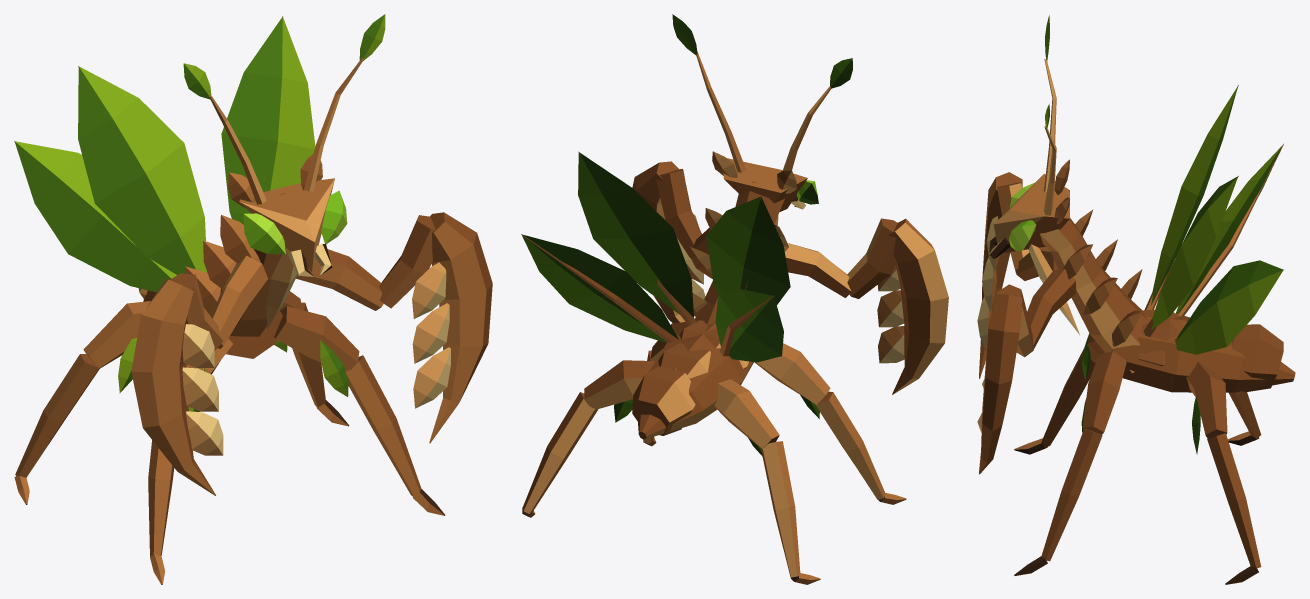
File: mantis-study-v2.glb
3 renders of one model, left to right at view 1: azimuth 30°, elevation 25°; view 2: azimuth 150°, elevation 25°; view 3: azimuth 270°, elevation 25°, orthographic. The views are drawn at different scales.
Visible parts, largest first — view 1: Leaf wing wing-1_0, Leaf wing wing1_0, Leaf wing wing-1_1, Curved woody hook -1, Curved woody hook 1, Triangular mantis head, Walking tibia leg1_0, Walking tibia leg-1_1, Walking femur leg1_0, Raised raptorial forearm 1, Raptorial upper arm -1, Raptorial upper arm 1 (+24 smaller); view 2: Leaf wing wing1_0, Curved woody hook -1, Leaf wing wing-1_0, Leaf wing wing1_1, Leaf wing wing-1_1, Abdomen core, Abdominal tergite 2, Walking tibia leg-1_1, Walking tibia leg1_1, Walking femur leg-1_1, Raised raptorial forearm -1, Walking tibia leg-1_0 (+14 smaller); view 3: Leaf wing wing1_1, Abdomen core, Rising prothorax, Curved woody hook 1, Leaf wing wing1_0, Leaf wing wing-1_0, Triangular mantis head, Walking tibia leg1_1, Walking tibia leg1_0, Walking femur leg1_0, Leaf wing wing-1_1, Abdominal tergite 2 (+19 smaller).
Boxes of the visible parts, bbox=[...] form: Leaf wing wing-1_0: bbox=[78, 66, 207, 274]; Leaf wing wing1_0: bbox=[221, 17, 315, 224]; Leaf wing wing-1_1: bbox=[15, 141, 176, 292]; Curved woody hook -1: bbox=[131, 279, 215, 495]; Curved woody hook 1: bbox=[429, 212, 492, 443]; Triangular mantis head: bbox=[239, 178, 334, 271]; Walking tibia leg1_0: bbox=[346, 355, 421, 495]; Walking tibia leg-1_1: bbox=[15, 354, 99, 477]; Walking femur leg1_0: bbox=[274, 306, 359, 370]; Raised raptorial forearm 1: bbox=[379, 215, 435, 308]; Raptorial upper arm -1: bbox=[211, 255, 267, 348]; Raptorial upper arm 1: bbox=[296, 249, 383, 310]; Leaf wing wing1_0: bbox=[578, 152, 693, 317]; Curved woody hook -1: bbox=[888, 218, 948, 394]; Leaf wing wing-1_0: bbox=[706, 196, 790, 305]; Leaf wing wing1_1: bbox=[522, 235, 678, 342]; Leaf wing wing-1_1: bbox=[715, 289, 783, 362]; Abdomen core: bbox=[637, 323, 753, 439]; Abdominal tergite 2: bbox=[632, 366, 695, 435]; Walking tibia leg-1_1: bbox=[761, 441, 800, 577]; Walking tibia leg1_1: bbox=[522, 392, 598, 513]; Walking femur leg-1_1: bbox=[714, 379, 779, 448]; Raised raptorial forearm -1: bbox=[847, 218, 897, 298]; Walking tibia leg-1_0: bbox=[815, 391, 885, 499]; Leaf wing wing1_1: bbox=[1175, 260, 1282, 354]; Abdomen core: bbox=[1112, 316, 1295, 392]; Rising prothorax: bbox=[1040, 218, 1148, 373]; Curved woody hook 1: bbox=[979, 294, 1022, 474]; Leaf wing wing1_0: bbox=[1151, 176, 1237, 330]; Leaf wing wing-1_0: bbox=[1151, 86, 1237, 305]; Triangular mantis head: bbox=[993, 174, 1069, 252]; Walking tibia leg1_1: bbox=[1207, 433, 1261, 568]; Walking tibia leg1_0: bbox=[1041, 428, 1102, 561]; Walking femur leg1_0: bbox=[1082, 351, 1126, 434]; Leaf wing wing-1_1: bbox=[1175, 145, 1282, 315]; Abdominal tergite 2: bbox=[1232, 324, 1283, 392].
Size of the model in its own units: 2.94 by 3.88 by 2.46.
